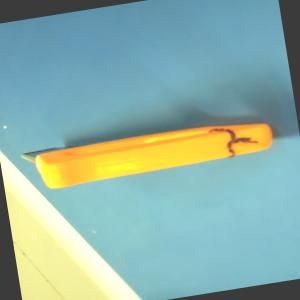serrote: (20, 112, 276, 192)
